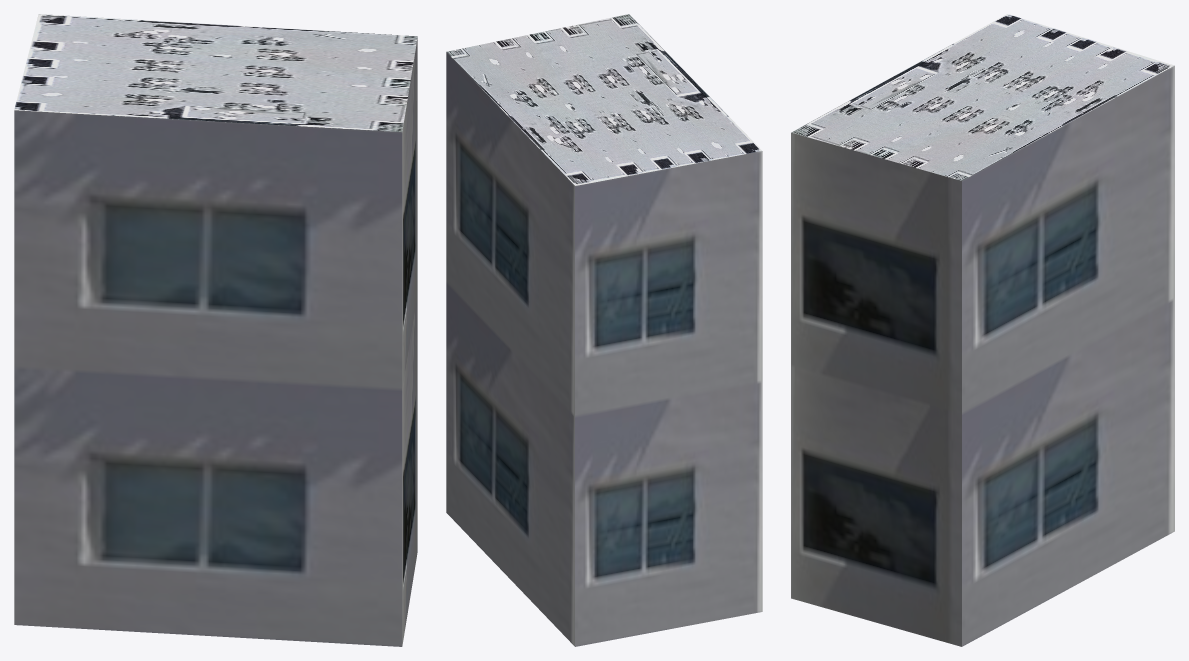
The model's file is ResTex__2929.fbx.
3 renders of one model, left to right at view 1: azimuth 30°, elevation 25°; view 2: azimuth 150°, elevation 25°; view 3: azimuth 270°, elevation 25°, orthographic. The views are drawn at different scales.
Visible parts, largest first — view 1: CityEngineMaterial_10_m, CityEngineMaterial_4_m; view 2: CityEngineMaterial_10_m, CityEngineMaterial_4_m; view 3: CityEngineMaterial_10_m, CityEngineMaterial_4_m.
Part boxes in pixels (left/top/right/bottom): CityEngineMaterial_10_m: left=14, top=38, right=417, bottom=646; CityEngineMaterial_4_m: left=14, top=14, right=417, bottom=131; CityEngineMaterial_10_m: left=446, top=52, right=762, bottom=646; CityEngineMaterial_4_m: left=446, top=14, right=761, bottom=185; CityEngineMaterial_10_m: left=791, top=66, right=1174, bottom=646; CityEngineMaterial_4_m: left=791, top=14, right=1174, bottom=180.
Bounding box in the file's own units: 4.62 × 6 × 4.48.
Materials: 2 (2 with a texture image).
